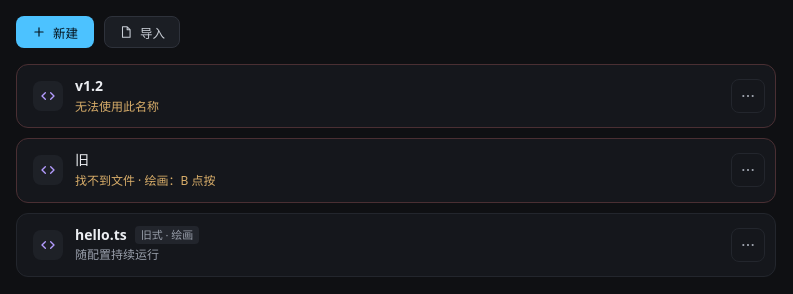
Scenario: scripts page: list › shows missing files, unusable names and the legacy script
Check: the element "v1.2" shows "无法使用此名称", box 75,98 -> 159,115
Click the 1st button with test id "script-menu": (748, 96) 731,79 -> 765,113
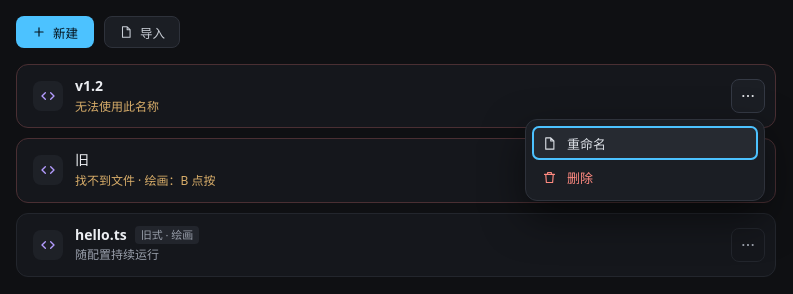
Check: the menu items read "重命名", "删除", in this order, box 532,126 -> 758,160; 532,160 -> 758,194
Press Escape
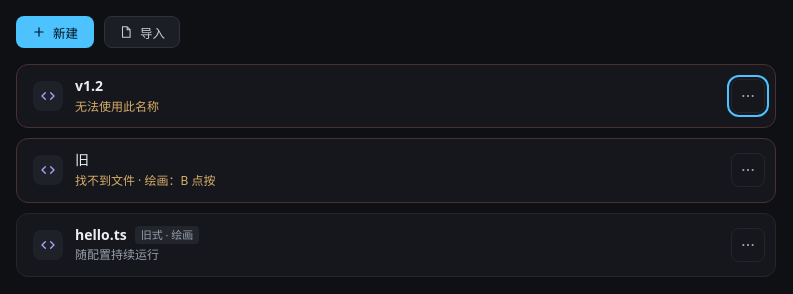
Check: the element "旧" shows "找不到文件 · 绘画：B 点按", box 75,172 -> 215,189
Click the 2nd button with test id "script-menu": (748, 170) 731,153 -> 765,187
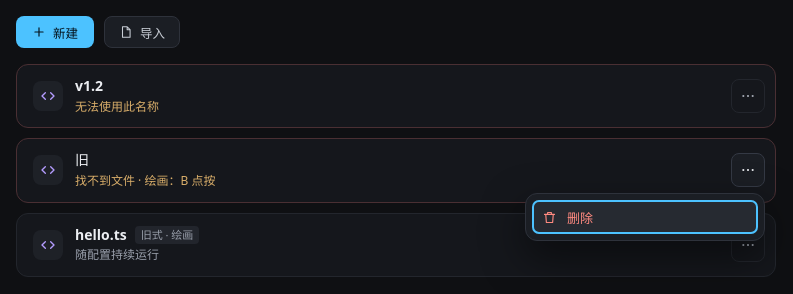
Check: the menu items read "删除", in this order, box 532,200 -> 758,234
Press Escape
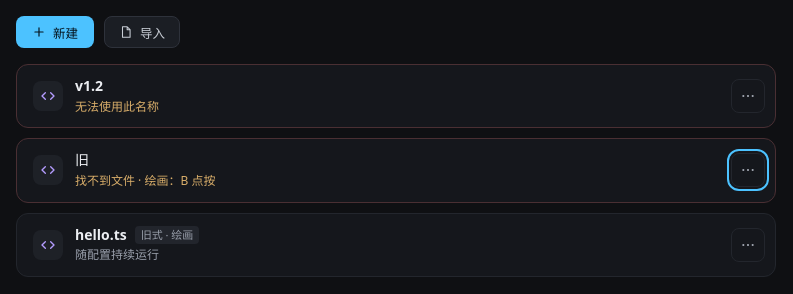
Check: the element named "hello.ts旧式 · 绘画" shows "随配置持续运行", box 75,246 -> 159,264
Click the 3rd button with test id "script-menu": (748, 245) 731,228 -> 765,262
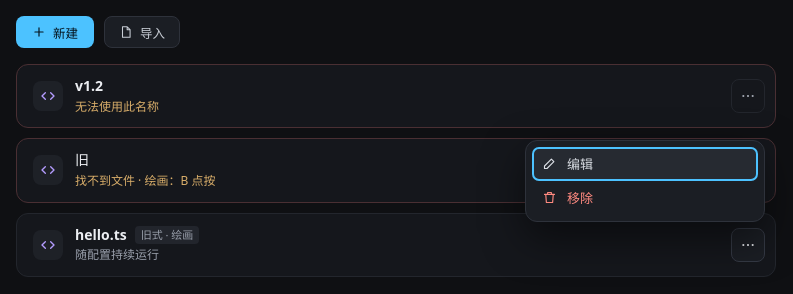
Check: the menu items read "编辑", "移除", in this order, box 532,147 -> 758,181; 532,181 -> 758,215
